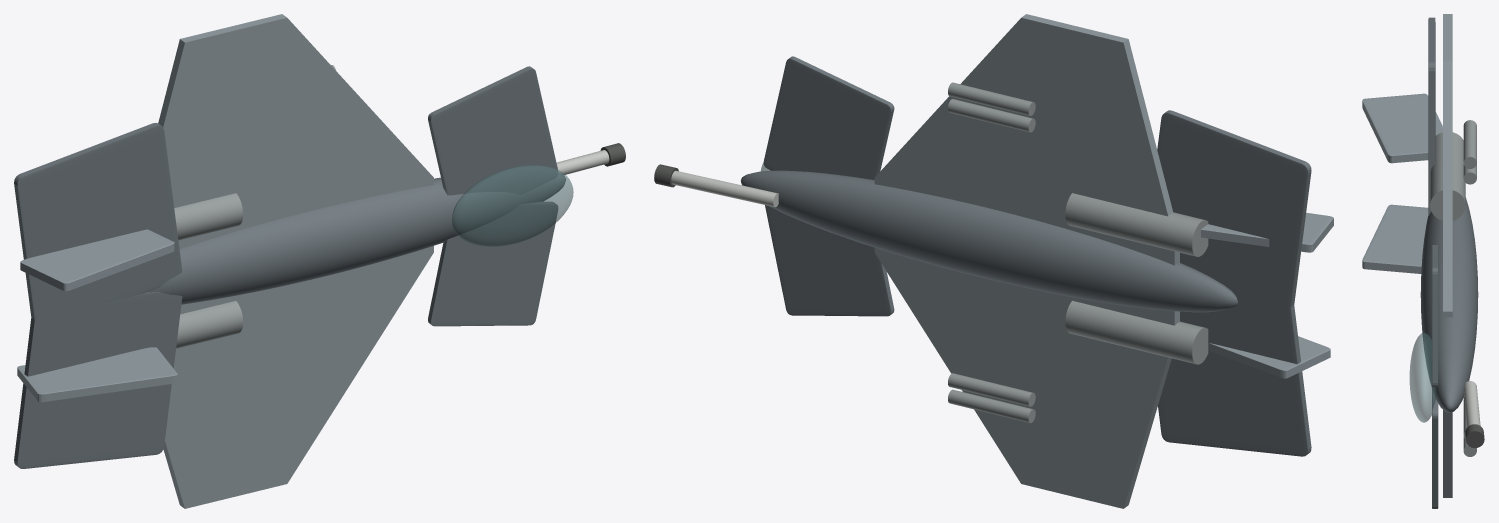
File: s-x04-specter-aero-lod1.glb
3 renders of one model, left to right at view 1: azimuth 30°, elevation 25°; view 2: azimuth 150°, elevation 25°; view 3: azimuth 270°, elevation 25°, orthographic. The views are drawn at different scales.
Visible parts, largest first — view 1: combat_main_wing, combat_fuselage, combat_tailplane_1, combat_tailplane_-1, canard_1, canard_-1, combat_canopy, combat_fin_-1, combat_fin_1, combat_engine_1, combat_engine_0, combat_gun_barrel_0; view 2: combat_main_wing, combat_fuselage, combat_tailplane_1, combat_tailplane_-1, canard_1, canard_-1, combat_engine_0, combat_engine_1, combat_fin_-1, combat_fin_1, combat_gun_barrel_0, combat_1_tube_1 (+3 smaller); view 3: combat_fuselage, combat_main_wing, combat_fin_1, combat_fin_-1, combat_engine_1, combat_canopy, combat_tailplane_1, canard_1, canard_-1, combat_1_tube_2, combat_gun_barrel_0, combat_gun_muzzle_0 (+2 smaller).
Boxes of the visible parts, bbox=[...] form: combat_main_wing: bbox=[158, 14, 433, 508]; combat_fuselage: bbox=[147, 173, 565, 304]; combat_tailplane_1: bbox=[14, 123, 182, 323]; combat_tailplane_-1: bbox=[14, 291, 182, 468]; canard_1: bbox=[428, 66, 557, 195]; canard_-1: bbox=[428, 202, 557, 326]; combat_canopy: bbox=[452, 165, 573, 246]; combat_fin_-1: bbox=[17, 347, 177, 402]; combat_fin_1: bbox=[20, 229, 174, 291]; combat_engine_1: bbox=[174, 193, 243, 240]; combat_engine_0: bbox=[176, 301, 243, 348]; combat_gun_barrel_0: bbox=[556, 150, 609, 174]; combat_main_wing: bbox=[874, 14, 1179, 508]; combat_fuselage: bbox=[740, 170, 1237, 312]; combat_tailplane_1: bbox=[1157, 110, 1311, 307]; combat_tailplane_-1: bbox=[1158, 294, 1311, 456]; canard_1: bbox=[763, 56, 894, 179]; canard_-1: bbox=[765, 205, 894, 316]; combat_engine_0: bbox=[1065, 300, 1208, 364]; combat_engine_1: bbox=[1065, 193, 1208, 256]; combat_fin_-1: bbox=[1208, 336, 1330, 378]; combat_fin_1: bbox=[1201, 212, 1333, 252]; combat_gun_barrel_0: bbox=[671, 170, 778, 207]; combat_1_tube_1: bbox=[948, 99, 1035, 132]; combat_fuselage: bbox=[1420, 197, 1478, 412]; combat_main_wing: bbox=[1443, 14, 1452, 497]; combat_fin_1: bbox=[1362, 93, 1442, 163]; combat_fin_-1: bbox=[1362, 204, 1428, 273]; combat_engine_1: bbox=[1430, 132, 1465, 220]; combat_canopy: bbox=[1409, 333, 1435, 422]; combat_tailplane_1: bbox=[1428, 17, 1435, 215]; canard_1: bbox=[1432, 245, 1438, 387]; canard_-1: bbox=[1432, 389, 1438, 508]; combat_1_tube_2: bbox=[1463, 120, 1476, 168]; combat_gun_barrel_0: bbox=[1464, 381, 1480, 426]; combat_gun_muzzle_0: bbox=[1465, 424, 1484, 448].
Size of what is drawn, in the model's own units: 15.75 by 11.17 by 2.83.
